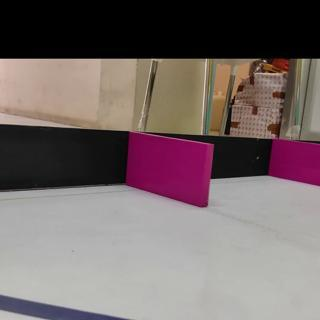xparking: (133, 145, 208, 203), (274, 143, 320, 183)
